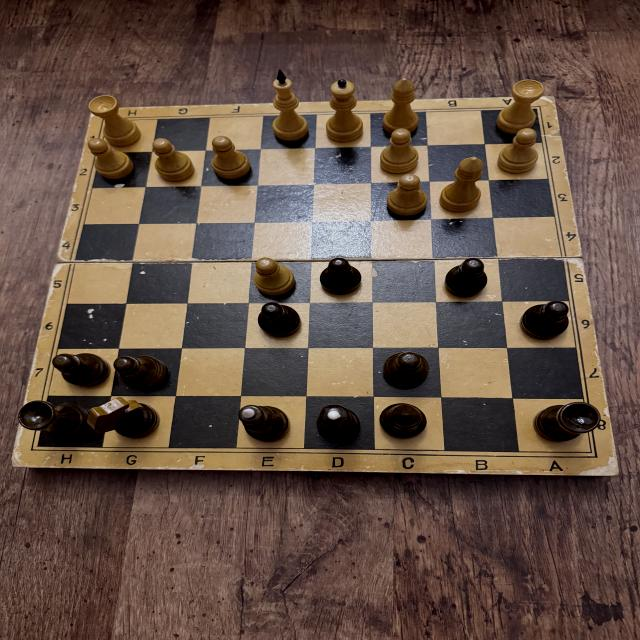black-bishop: (379, 402, 428, 440)
black-king: (238, 404, 289, 441)
black-knight: (85, 398, 161, 438)
black-pawn: (51, 352, 110, 388), (520, 299, 570, 340), (441, 255, 489, 297), (114, 354, 168, 391), (380, 351, 430, 389), (255, 302, 302, 338), (320, 258, 363, 296)
black-queen: (313, 403, 364, 445)
black-rook: (17, 399, 91, 442), (535, 400, 600, 446)
white-bishop: (438, 153, 485, 213), (381, 77, 423, 134)
white-king: (267, 68, 311, 144)
white-pawn: (85, 137, 137, 181), (150, 138, 196, 183), (208, 136, 252, 182), (498, 128, 540, 175), (384, 174, 428, 217), (380, 128, 421, 174), (253, 259, 298, 297)
white-queen: (323, 77, 366, 143)
white-rook: (495, 78, 545, 134), (90, 95, 141, 145)
